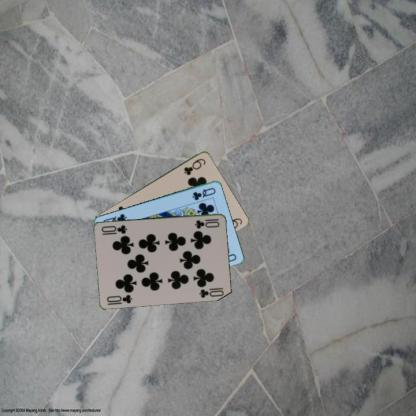10c: (104, 291, 134, 306), (192, 216, 221, 230)
6c: (181, 156, 207, 177)
Qc: (190, 185, 216, 202)
